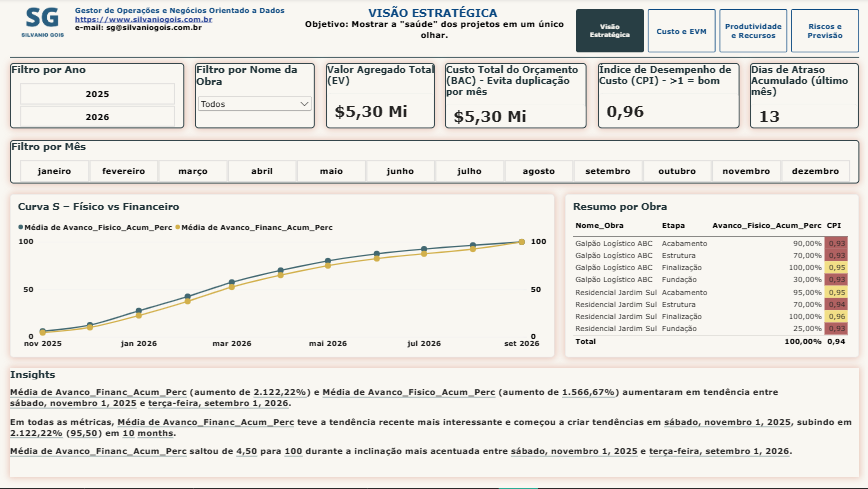

This screenshot's page, from the dashboard's own definition file:
{"tool":"powerbi","page":{"name":"Visão Estratégica","canvas":[1920,1080],"ordinal":0},"visuals":[{"type":"image","box":[24,0,144,96],"z":0},{"type":"textbox","box":[168,0,504,120],"z":1000},{"type":"textbox","box":[648,0,624,120],"z":2000},{"type":"pageNavigator","box":[1272,24,624,96],"z":3000},{"type":"shape","box":[24,120,1872,24],"z":4000},{"type":"cardVisual","title":"Custo Total do Orçamento (BAC) - Evita duplicação por mês","fields":{"Data":["MedidasGeralCards.BAC_Total"]},"box":[984,144,312,144],"z":5000},{"type":"cardVisual","title":"Valor Agregado Total (EV)","fields":{"Data":["MedidasCorrigidas.EV_Correto"]},"box":[720,144,240,144],"z":6000},{"type":"cardVisual","title":"Dias de Atraso Acumulado (último mês)","fields":{"Data":["MedidasGeralCards.Dias_Atraso_Total"]},"box":[1656,144,240,144],"z":7000},{"type":"cardVisual","title":"Índice de Desempenho de Custo (CPI) - >1 = bom","fields":{"Data":["MedidasCorrigidas.CPI_Correto"]},"box":[1320,144,312,144],"z":8000},{"type":"lineChart","title":"Curva S – Físico vs Financeiro","fields":{"Category":["Obras.Data_Referencia"],"Y":["Avg(Obras.Avanco_Fisico_Acum_Perc)"],"Y2":["Avg(Obras.Avanco_Financ_Acum_Perc)"]},"box":[24,432,1200,360],"z":9000},{"type":"tableEx","title":"Resumo por Obra","fields":{"Values":["Obras.Nome_Obra","Obras.Etapa","Sum(Obras.Avanco_Fisico_Acum_Perc)","MedidasDesempenhoEVM.CPI"]},"box":[1248,432,648,360],"z":11000},{"type":"slicer","title":"Filtro por Ano","fields":{"Values":["Obras.Data_Referencia.Variation.Hierarquia de datas.Ano"]},"box":[24,144,384,144],"z":12000},{"type":"slicer","title":"Filtro por Nome da Obra","fields":{"Values":["Obras.Nome_Obra"]},"box":[432,144,264,144],"z":13000},{"type":"textbox","title":"Insights","box":[24,816,1872,240],"z":13001},{"type":"slicer","title":"Filtro por Mês","fields":{"Values":["Obras.Data_Referencia.Variation.Hierarquia de datas.Mês"]},"box":[24,312,1872,96],"z":13002}]}

Visuals, with their boxes in screenshot pixels (x1, y1, x2, y2), scaled from the page's 1920x1080 canvas onto the 868x489 screenshot:
image: bbox=(11, 0, 76, 43)
textbox: bbox=(76, 0, 304, 54)
textbox: bbox=(293, 0, 575, 54)
pageNavigator: bbox=(575, 11, 857, 54)
shape: bbox=(11, 54, 857, 65)
"Custo Total do Orçamento (BAC) - Evita duplicação por mês" cardVisual: bbox=(445, 65, 586, 130)
"Valor Agregado Total (EV)" cardVisual: bbox=(326, 65, 434, 130)
"Dias de Atraso Acumulado (último mês)" cardVisual: bbox=(749, 65, 857, 130)
"Índice de Desempenho de Custo (CPI) - >1 = bom" cardVisual: bbox=(597, 65, 738, 130)
"Curva S – Físico vs Financeiro" lineChart: bbox=(11, 196, 553, 359)
"Resumo por Obra" tableEx: bbox=(564, 196, 857, 359)
"Filtro por Ano" slicer: bbox=(11, 65, 184, 130)
"Filtro por Nome da Obra" slicer: bbox=(195, 65, 315, 130)
"Insights" textbox: bbox=(11, 369, 857, 478)
"Filtro por Mês" slicer: bbox=(11, 141, 857, 185)
